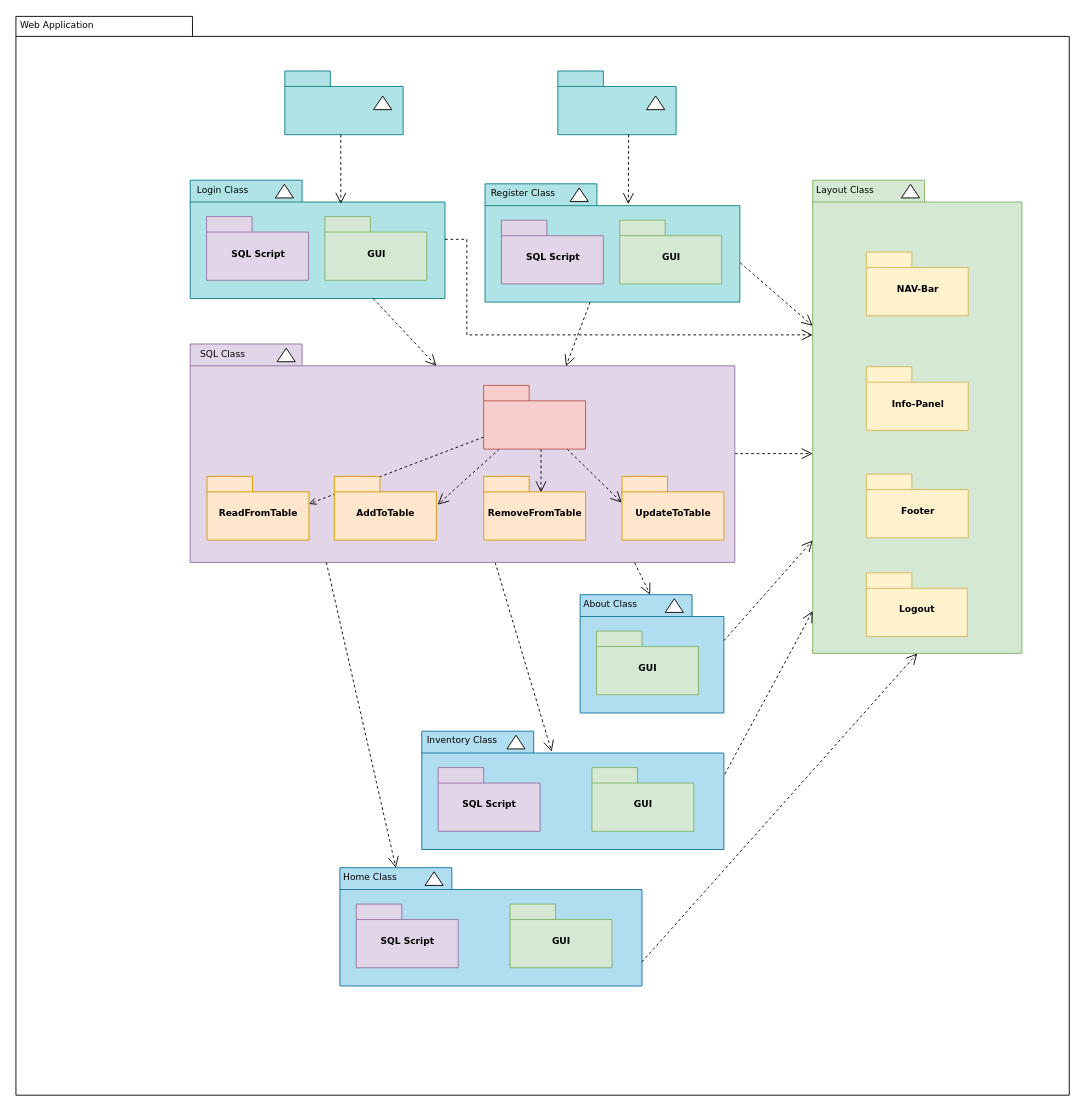
The diagram is 1086 pixels wide and 1111 high, and some of its shapes have lost their labels. The box of each missing label's shape, as (x1, y1, x2, y2) in pixels:
Functions: (483, 384, 586, 449)
Login: (284, 70, 403, 135)
Register: (557, 70, 676, 135)
